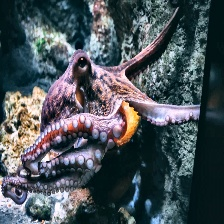octopus: (8, 16, 202, 224)
